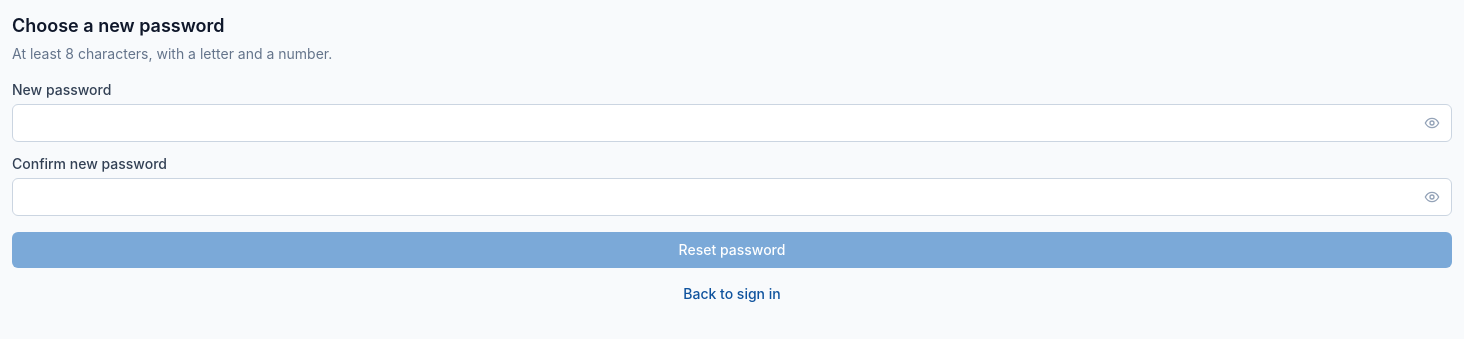
Test case: ADR-058 — Reset password › enforces the password policy and the confirmation as they are typed
This screenshot has width=1464, height=339.
In the password field labelled "New password": (732, 123) [12, 104, 1452, 142], type "short"
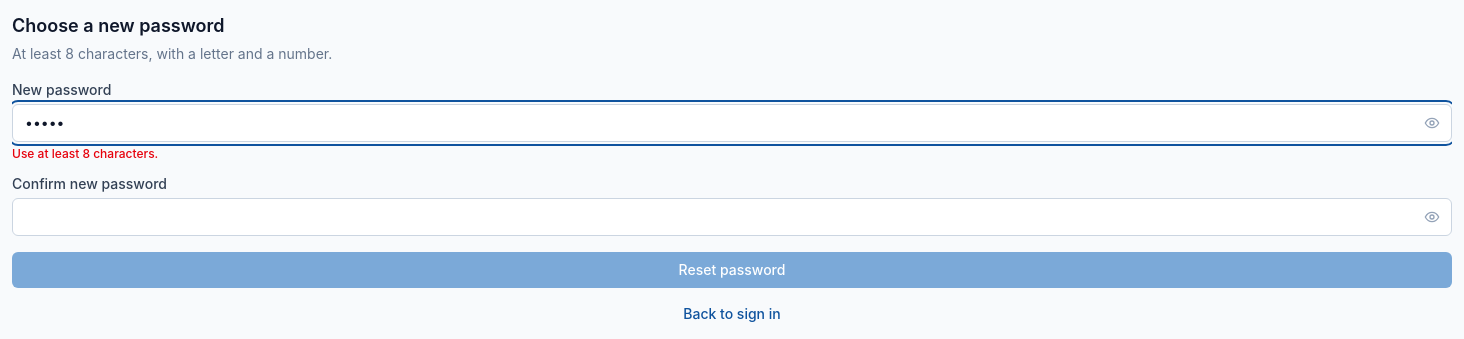
Expected: the text "Use at least 8 characters." is shown, [12, 146, 158, 161]
In the password field labelled "New password": (732, 123) [12, 104, 1452, 142], type "longenough"
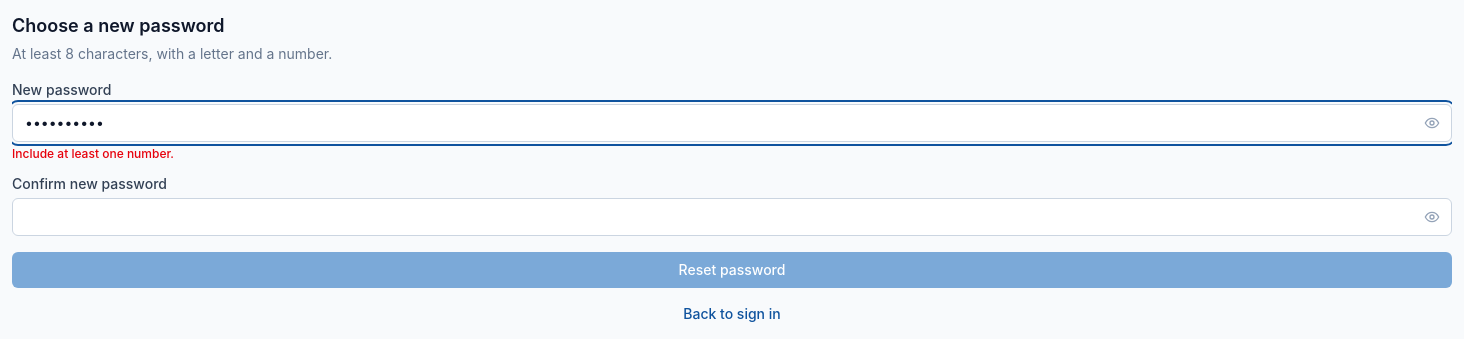
Expected: the text "Include at least one number." is shown, [12, 146, 174, 161]
In the password field labelled "New password": (732, 123) [12, 104, 1452, 142], type "GoodPass123"
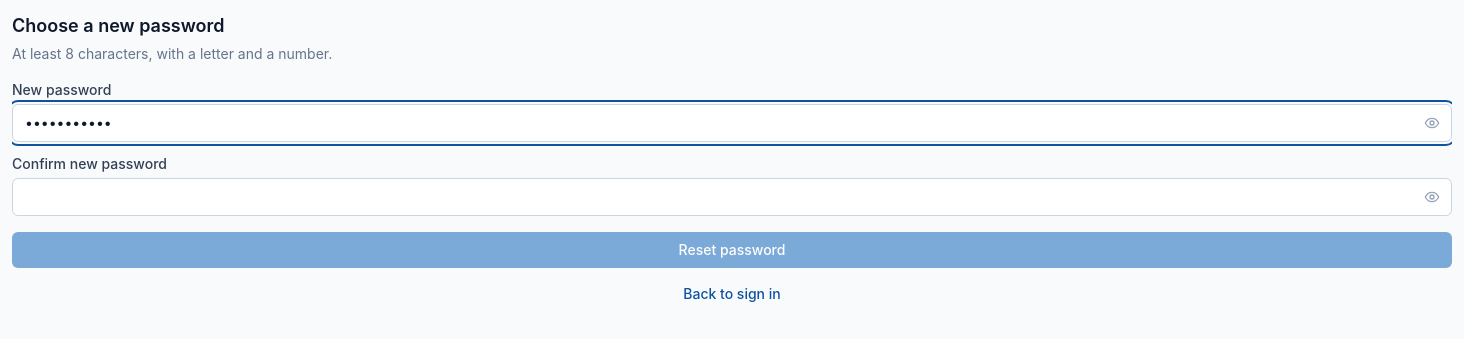
In the password field labelled "Confirm new password": (732, 197) [12, 178, 1452, 216], type "GoodPass124"
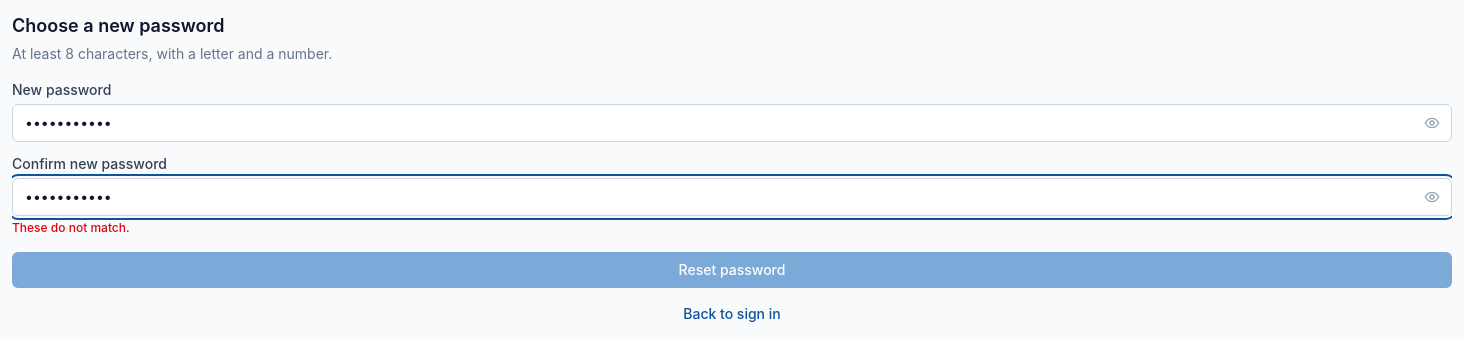
Expected: the button "Reset password" is disabled, [12, 252, 1452, 288]
Expected: the text "These do not match." is shown, [12, 220, 130, 235]
